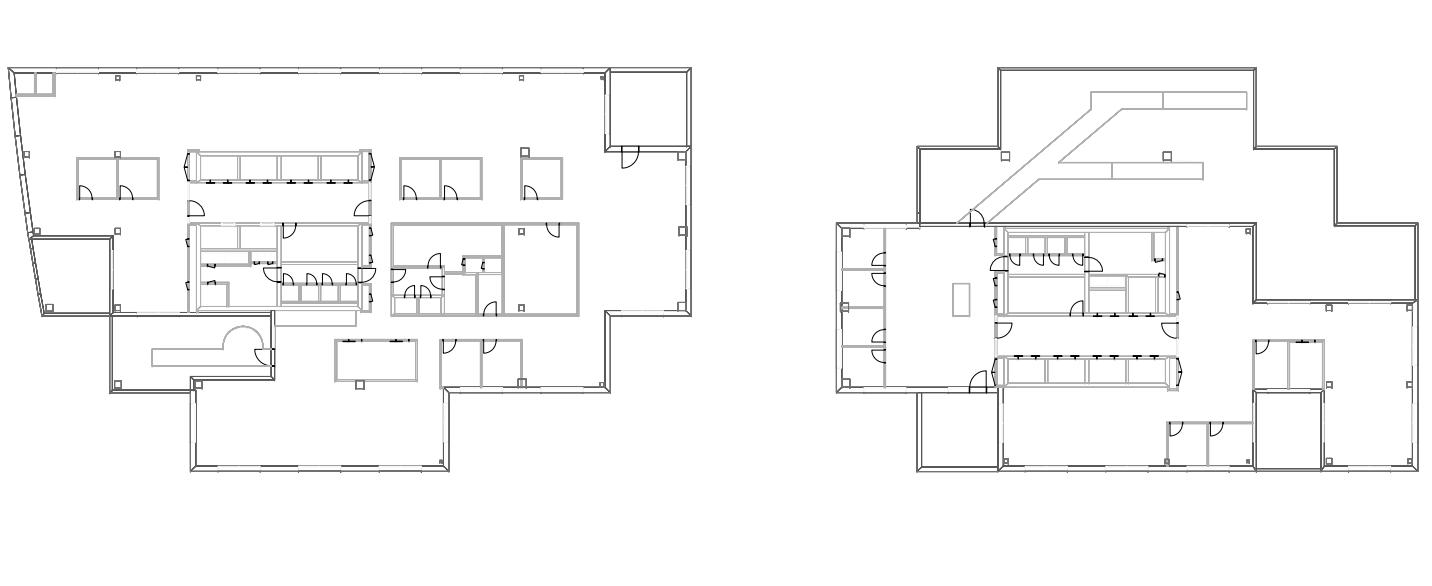room: (920, 69, 1418, 302), (886, 228, 994, 387), (110, 316, 271, 390), (189, 183, 369, 222), (504, 225, 578, 314), (32, 238, 111, 314), (610, 69, 687, 145), (921, 392, 999, 467), (1256, 392, 1322, 468), (1088, 232, 1166, 274), (336, 340, 416, 380), (1009, 276, 1085, 313), (282, 226, 357, 261), (1208, 422, 1253, 465), (441, 339, 481, 386), (1167, 422, 1207, 467), (483, 340, 522, 386), (521, 157, 562, 199), (842, 228, 884, 269), (1289, 340, 1324, 388), (441, 158, 481, 199), (842, 347, 884, 386), (1254, 340, 1288, 388), (842, 308, 884, 346), (78, 159, 117, 199), (118, 159, 158, 198), (401, 159, 440, 199), (842, 270, 884, 307), (1129, 277, 1156, 313), (1089, 290, 1126, 312), (1089, 275, 1126, 288)
